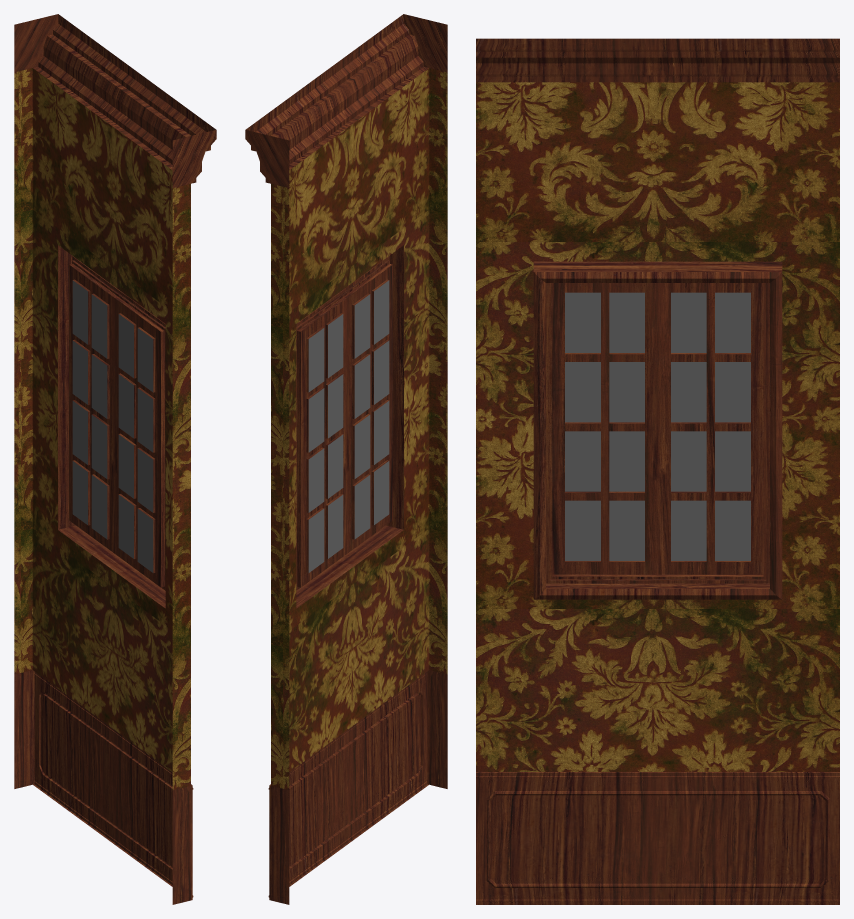
Rendered from Dinding_Jendela_2.fbx.
The picture shows the model from 3 angles, left to right: view 1: azimuth 30°, elevation 25°; view 2: azimuth 150°, elevation 25°; view 3: azimuth 270°, elevation 25°; orthographic projection. The views are drawn at different scales.
Parts seen in each view (by area): view 1: Dinding Jendela 2; view 2: Dinding Jendela 2; view 3: Dinding Jendela 2.
Part boxes in pixels (<box>): Dinding Jendela 2: <box>14,14,216,904</box>; Dinding Jendela 2: <box>245,14,447,904</box>; Dinding Jendela 2: <box>476,38,839,904</box>.
Bounding box in the file's own units: 24 × 400 × 150.
3 materials, 2 textured.
